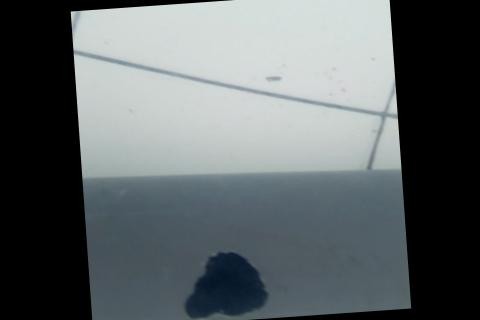kebocoran: (173, 246, 269, 320)
